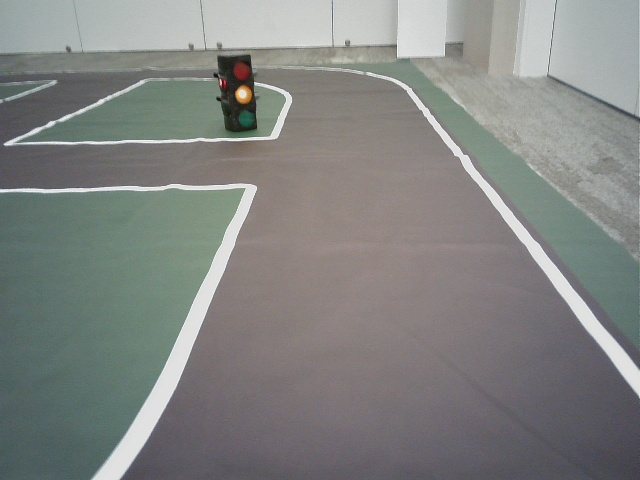yellow: (225, 57, 255, 129)
